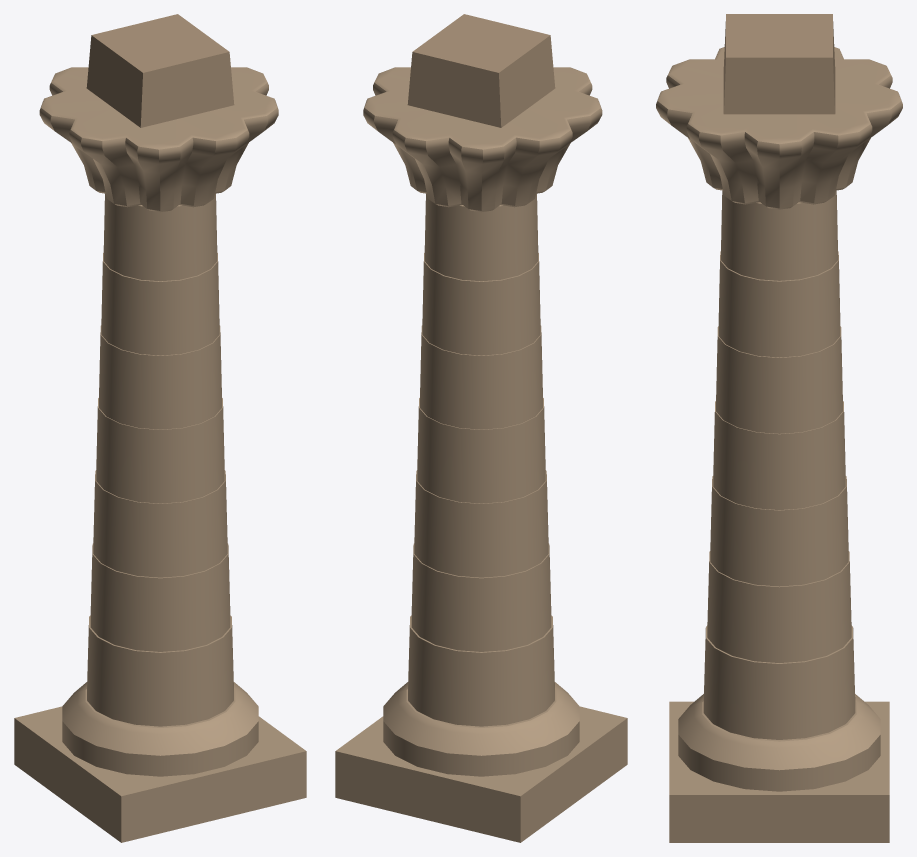
File: egypt_column_fancy.fbx
3 renders of one model, left to right at view 1: azimuth 30°, elevation 25°; view 2: azimuth 150°, elevation 25°; view 3: azimuth 270°, elevation 25°, orthographic. The views are drawn at different scales.
Parts seen in each view (by area): view 1: pCylinder13, pCube31, pCube32, pCylinder6, pCylinder5, pCylinder7, pCylinder8, pCylinder9, pCylinder10, pCylinder11, pCylinder12; view 2: pCylinder13, pCube31, pCube32, pCylinder6, pCylinder5, pCylinder7, pCylinder8, pCylinder9, pCylinder10, pCylinder11, pCylinder12; view 3: pCylinder13, pCube31, pCylinder6, pCylinder5, pCube32, pCylinder7, pCylinder8, pCylinder9, pCylinder10, pCylinder11, pCylinder12.
Part boxes in pixels (x1=…): pCylinder13: x1=39, y1=67, x2=278, y2=212; pCube31: x1=14, y1=706, x2=306, y2=842; pCube32: x1=86, y1=14, x2=234, y2=127; pCylinder6: x1=87, y1=615, x2=233, y2=726; pCylinder5: x1=62, y1=682, x2=258, y2=776; pCylinder7: x1=90, y1=543, x2=230, y2=651; pCylinder8: x1=93, y1=470, x2=227, y2=577; pCylinder9: x1=96, y1=398, x2=224, y2=503; pCylinder10: x1=99, y1=325, x2=221, y2=429; pCylinder11: x1=101, y1=253, x2=219, y2=355; pCylinder12: x1=103, y1=193, x2=217, y2=281; pCylinder13: x1=363, y1=67, x2=602, y2=212; pCube31: x1=335, y1=706, x2=627, y2=842; pCube32: x1=407, y1=14, x2=555, y2=127; pCylinder6: x1=408, y1=615, x2=554, y2=726; pCylinder5: x1=383, y1=682, x2=579, y2=776; pCylinder7: x1=411, y1=543, x2=551, y2=651; pCylinder8: x1=414, y1=470, x2=548, y2=577; pCylinder9: x1=417, y1=398, x2=545, y2=503; pCylinder10: x1=420, y1=325, x2=542, y2=429; pCylinder11: x1=422, y1=253, x2=540, y2=355; pCylinder12: x1=424, y1=193, x2=538, y2=281; pCylinder13: x1=656, y1=47, x2=902, y2=209; pCube31: x1=669, y1=701, x2=889, y2=842; pCylinder6: x1=703, y1=625, x2=855, y2=739; pCylinder5: x1=678, y1=694, x2=880, y2=791; pCube32: x1=723, y1=14, x2=835, y2=114; pCylinder7: x1=707, y1=551, x2=851, y2=662; pCylinder8: x1=710, y1=476, x2=848, y2=586; pCylinder9: x1=713, y1=401, x2=845, y2=509; pCylinder10: x1=716, y1=326, x2=842, y2=433; pCylinder11: x1=718, y1=251, x2=840, y2=357; pCylinder12: x1=721, y1=190, x2=837, y2=280.
Size of the model in its own units: 2.18 by 7.54 by 2.22.
